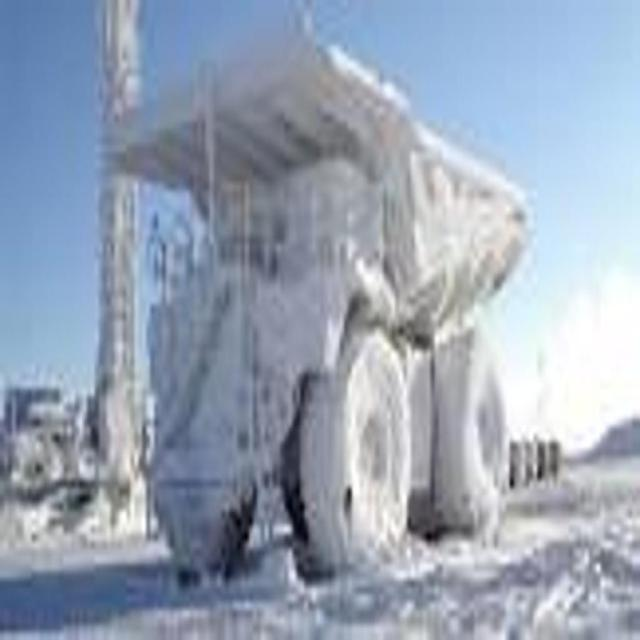dump_truck: (101, 27, 538, 570)
